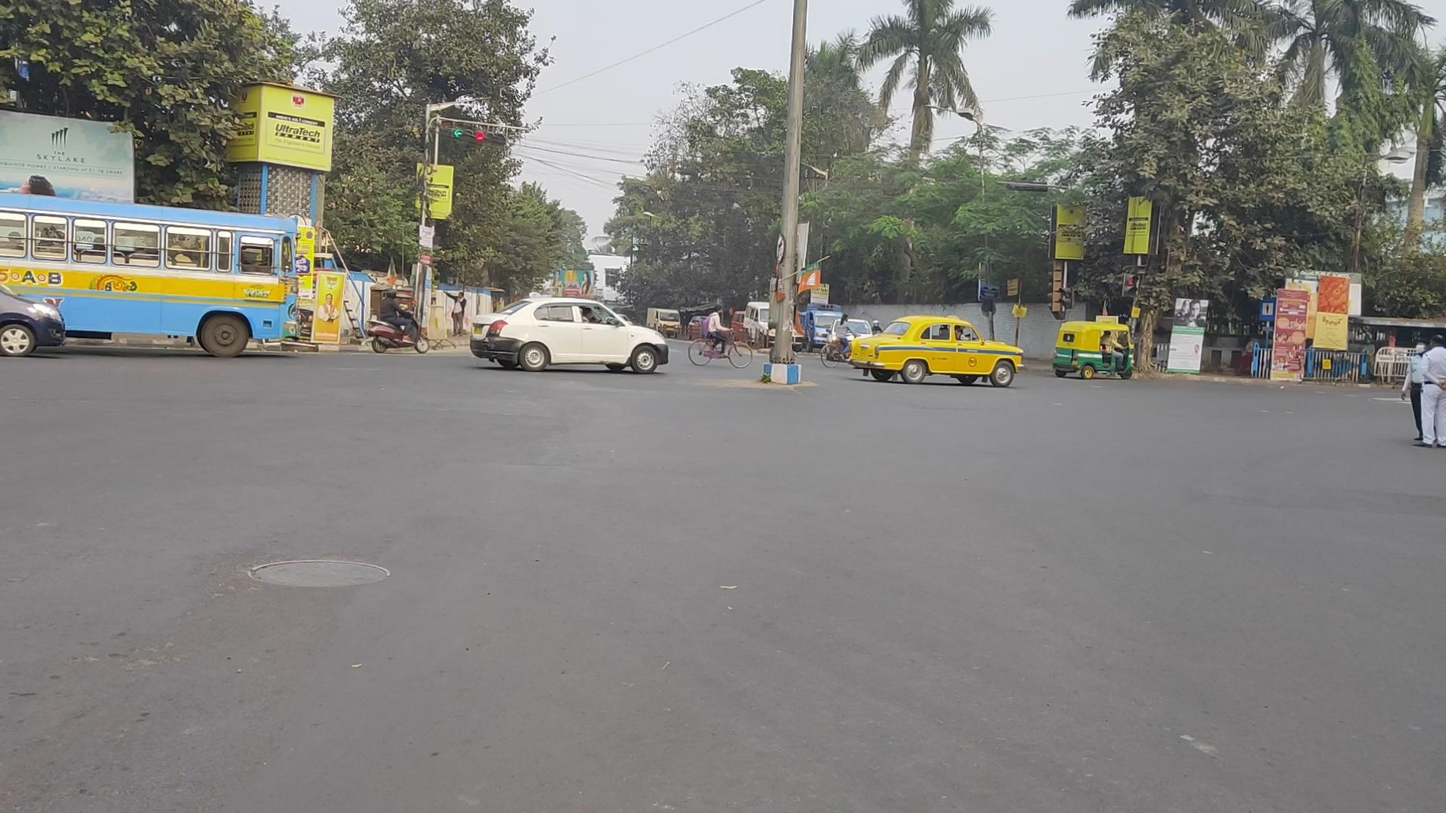Auto: (1051, 321, 1135, 379)
Bus: (1, 193, 299, 359)
bike: (688, 305, 753, 370), (366, 288, 430, 354), (820, 314, 868, 368)
car: (471, 297, 669, 374), (848, 314, 1025, 387), (1, 287, 66, 358), (744, 300, 803, 351), (825, 318, 874, 362)
van: (799, 303, 845, 354), (645, 306, 682, 340)
